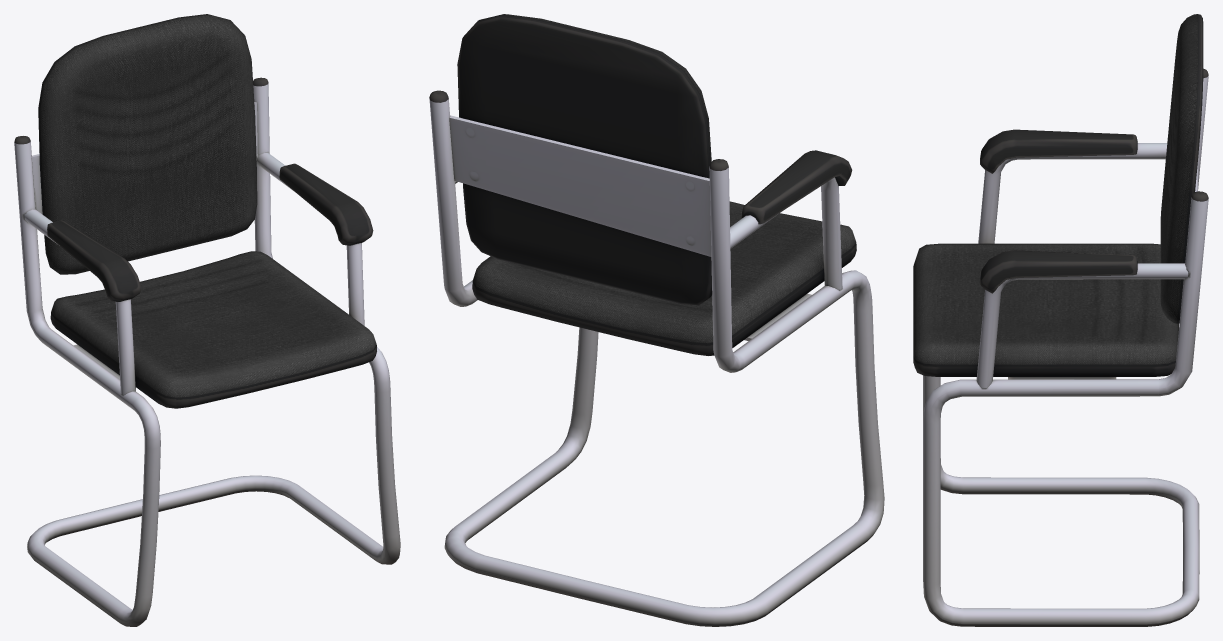
File: OfficeChair05.FBX
The picture shows the model from 3 angles, left to right: view 1: azimuth 30°, elevation 25°; view 2: azimuth 150°, elevation 25°; view 3: azimuth 270°, elevation 25°; orthographic projection. The views are drawn at different scales.
Visible parts, largest first — view 1: OfficeChair05; view 2: OfficeChair05; view 3: OfficeChair05.
Part boxes in pixels (bbox=[...]): OfficeChair05: bbox=[14, 14, 400, 626]; OfficeChair05: bbox=[429, 14, 884, 626]; OfficeChair05: bbox=[913, 14, 1208, 626].
Size of what is drawn, in the model's own units: 0.6833 by 1.17 by 0.6103.
